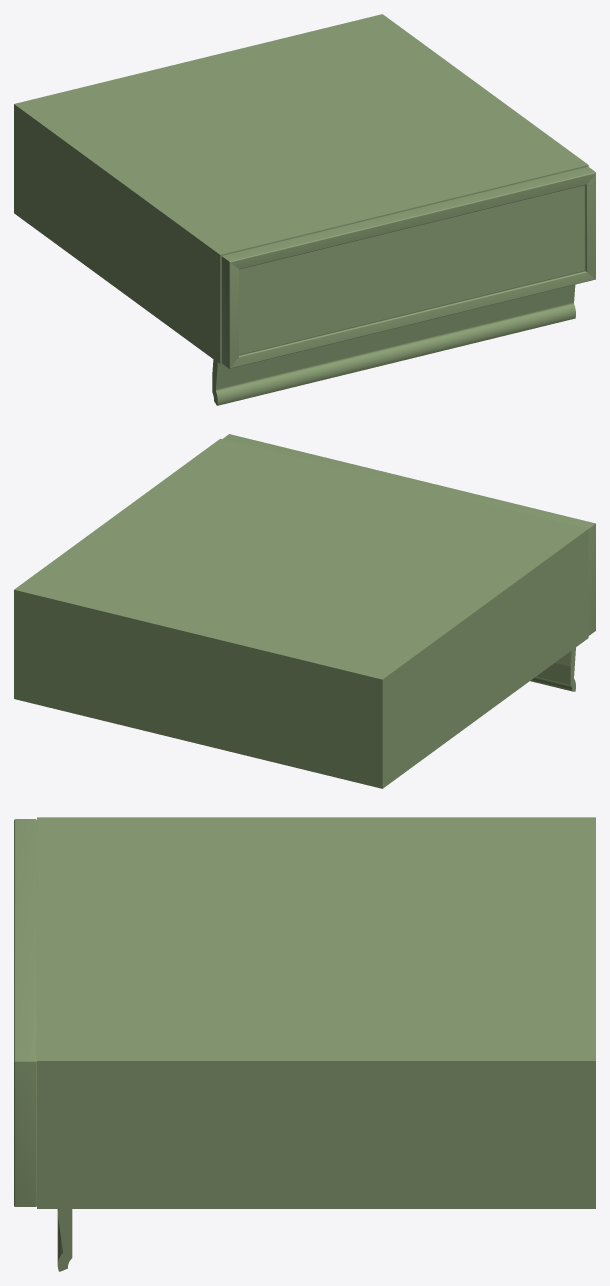
Rendered from oven_bottom.gltf.
The picture shows the model from 3 angles, top to bottom: view 1: azimuth 30°, elevation 25°; view 2: azimuth 150°, elevation 25°; view 3: azimuth 270°, elevation 25°; orthographic projection. The views are drawn at different scales.
Visible parts, largest first — view 1: Rectangle038, Box8222906, Rectangle060, SPR-5053; view 2: Rectangle038, Rectangle060, SPR-5053; view 3: Rectangle038, Rectangle060, SPR-5053.
Boxes of the visible parts, bbox=[...] form: Rectangle038: bbox=[14, 14, 588, 364]; Box8222906: bbox=[239, 185, 584, 354]; Rectangle060: bbox=[221, 166, 595, 368]; SPR-5053: bbox=[212, 284, 575, 405]; Rectangle038: bbox=[14, 438, 588, 788]; Rectangle060: bbox=[222, 434, 595, 635]; SPR-5053: bbox=[530, 647, 575, 691]; Rectangle038: bbox=[37, 817, 595, 1208]; Rectangle060: bbox=[14, 819, 36, 1206]; SPR-5053: bbox=[57, 1209, 72, 1271].
Size of the model in its own units: 0.6 by 0.246 by 0.6055.
